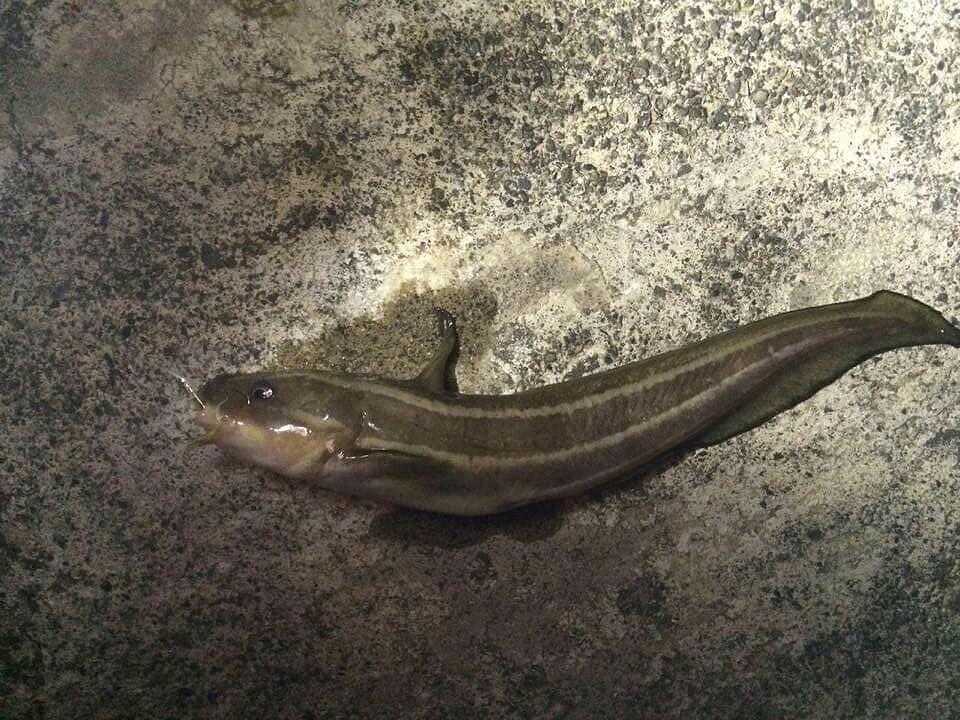gonzui: (172, 262, 943, 550)
